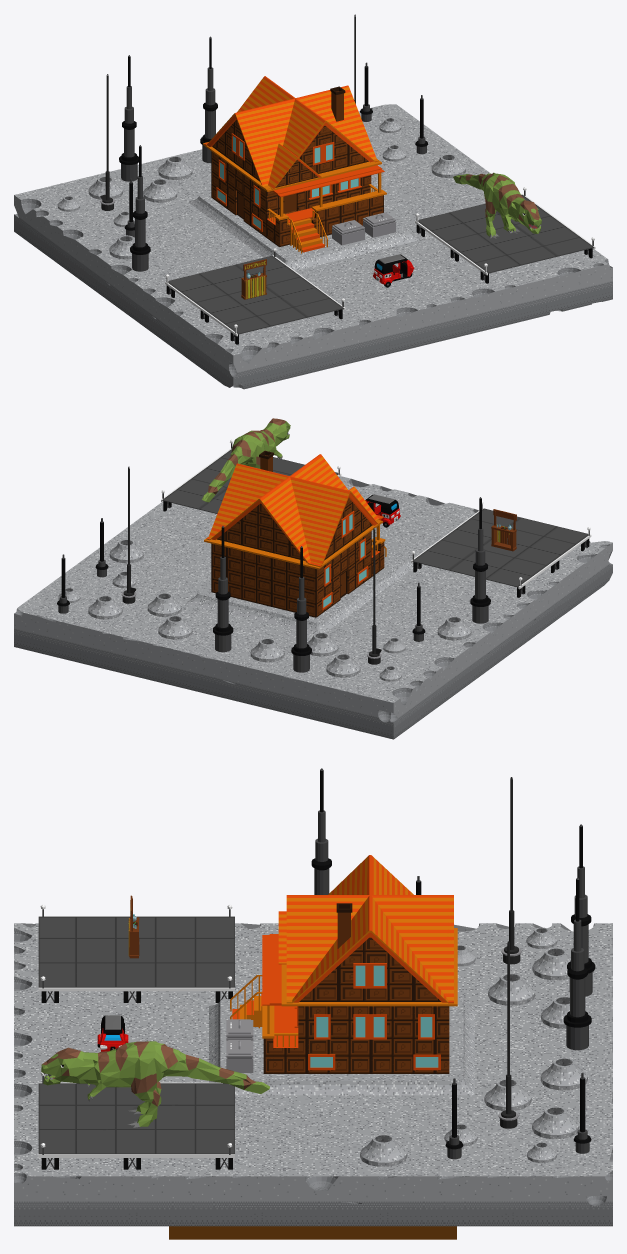
3 views of the same model, one above another, from view 1: azimuth 30°, elevation 25°; view 2: azimuth 150°, elevation 25°; view 3: azimuth 270°, elevation 25° (orthographic). The views are drawn at different scales.
Visible parts, largest first — view 1: Cube.027, Cube, Cube.025, Cube.026, Cube.028, ANIMAL_TREX, Cylinder.021, Cylinder.020, Cylinder.017, VEHICLES_TUC_TUC, OBJRANDOM_LEMONADE_STAND, Cube.029 (+6 smaller); view 2: Cube.027, Cube, Cube.025, Cube.028, Cube.026, ANIMAL_TREX, Cylinder.017, Cylinder.021, Cylinder.020, OBJRANDOM_LEMONADE_STAND, VEHICLES_TUC_TUC, Cylinder.025 (+9 smaller); view 3: Cube.027, Cube, Cube.025, Cube.026, Cube.028, ANIMAL_TREX, UNDERGROUND_ART_PIECE_VAN_GOGH, Cylinder.017, Cylinder.020, Cylinder.021, Cylinder.033, Cylinder.031 (+10 smaller).
Part boxes in pixels (box(x1,y1,x2,y2)): Cube.027: box(14, 104, 612, 389); Cube: box(203, 76, 386, 253); Cube.025: box(165, 248, 345, 344); Cube.026: box(415, 187, 595, 283); Cube.028: box(189, 192, 418, 270); ANIMAL_TREX: box(453, 172, 541, 238); Cylinder.021: box(130, 145, 150, 271); Cylinder.020: box(119, 55, 138, 181); Cylinder.017: box(200, 36, 217, 162); VEHICLES_TUC_TUC: box(373, 254, 414, 287); OBJRANDOM_LEMONADE_STAND: box(241, 259, 266, 299); Cube.029: box(332, 220, 364, 245); Cube.027: box(14, 476, 612, 739); Cube: box(204, 450, 386, 617); Cube.025: box(411, 501, 591, 597); Cube.028: box(187, 553, 413, 634); Cube.026: box(161, 440, 341, 513); ANIMAL_TREX: box(202, 418, 290, 502); Cylinder.017: box(213, 526, 233, 652); Cylinder.021: box(470, 497, 490, 623); Cylinder.020: box(291, 546, 311, 672); OBJRANDOM_LEMONADE_STAND: box(491, 509, 516, 551); VEHICLES_TUC_TUC: box(365, 494, 400, 527); Cylinder.025: box(437, 616, 471, 640); Cube.027: box(14, 923, 612, 1226); Cube: box(230, 855, 457, 1073); Cube.025: box(38, 904, 234, 1002); Cube.026: box(38, 1072, 234, 1169); Cube.028: box(209, 999, 474, 1095); ANIMAL_TREX: box(41, 1041, 269, 1127); UNDERGROUND_ART_PIECE_VAN_GOGH: box(169, 1226, 456, 1239); Cylinder.017: box(563, 877, 591, 1050); Cylinder.020: box(567, 824, 595, 996); Cylinder.021: box(311, 768, 331, 894); Cylinder.033: box(360, 1134, 407, 1166); Cylinder.031: box(532, 1106, 579, 1138).
Bounding box in the file's own units: 4000 × 1925 × 4000.
40 materials, 6 textured.
